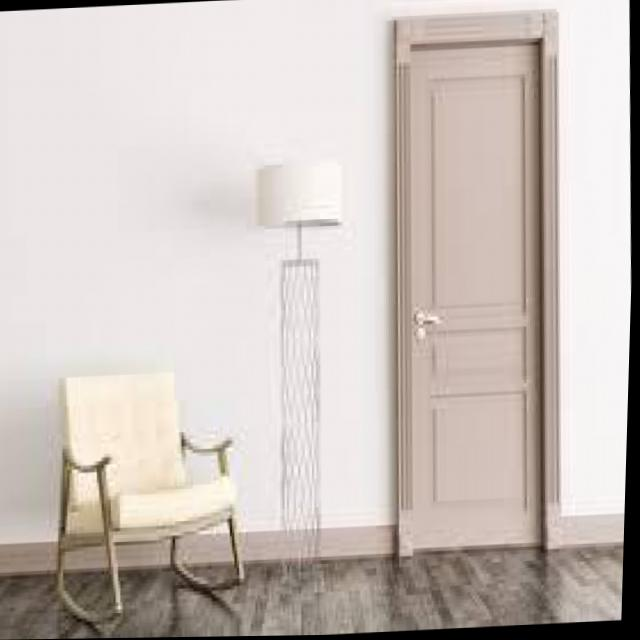close: (369, 0, 585, 587)
